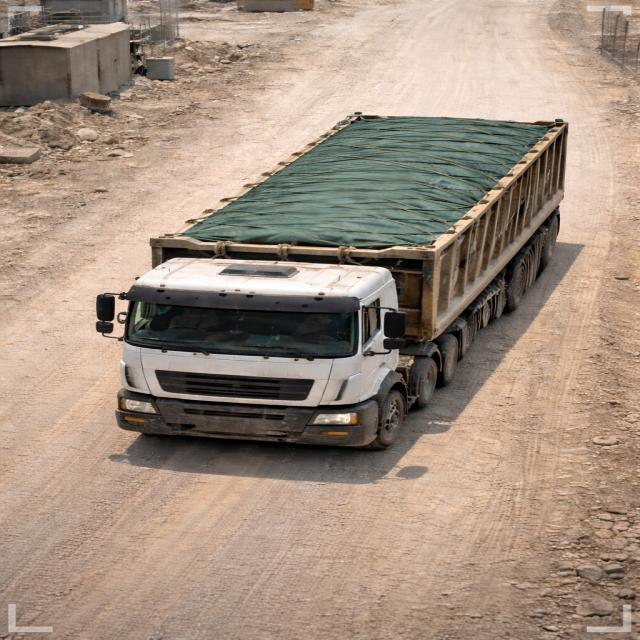Box: (145, 112, 566, 248)
Truck: (94, 114, 569, 453)
